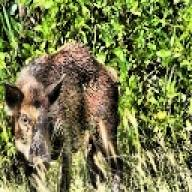boar: (2, 40, 124, 192)
